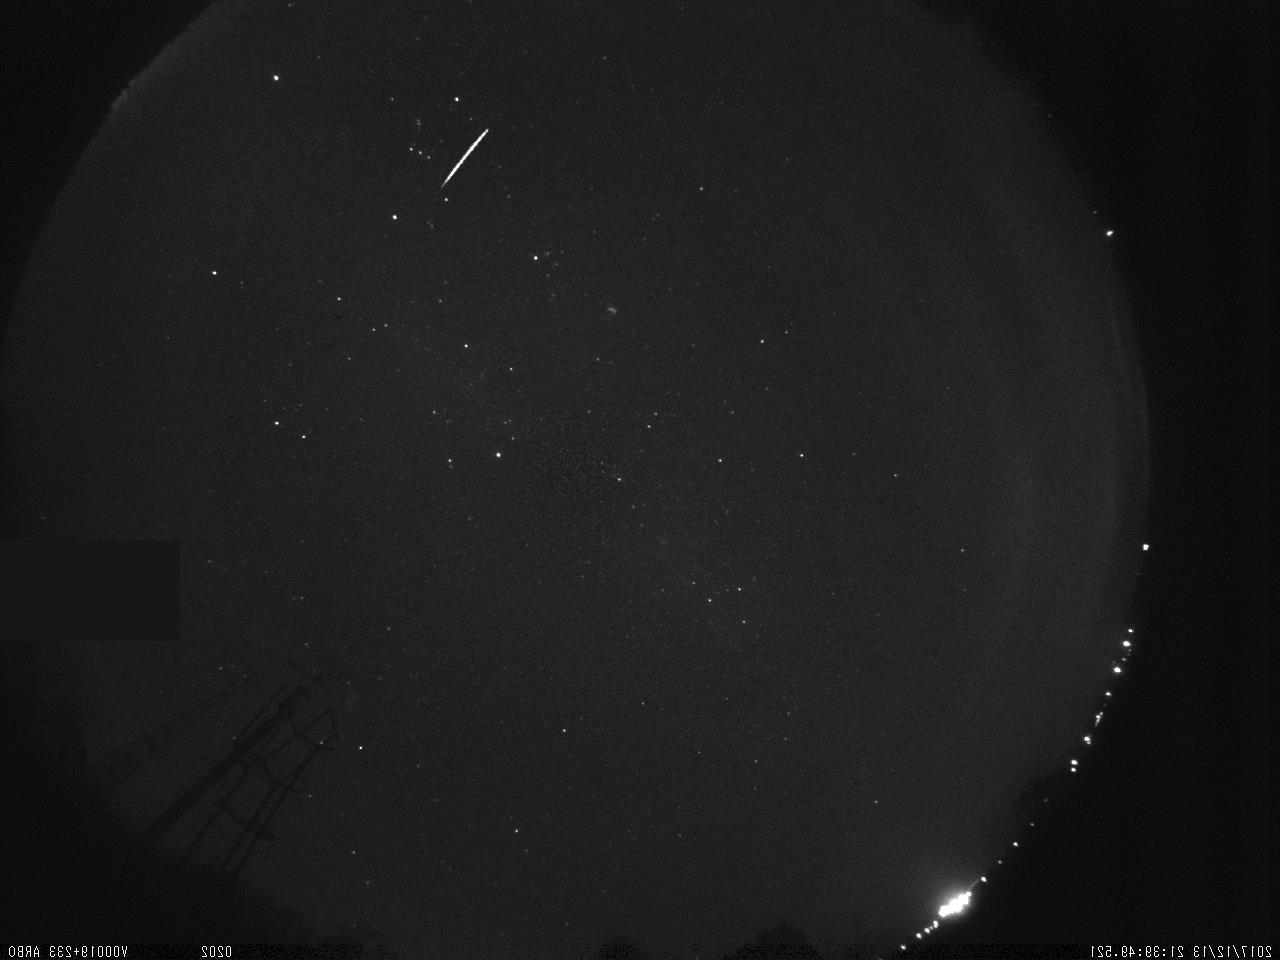meteor: (423, 109, 507, 200)
